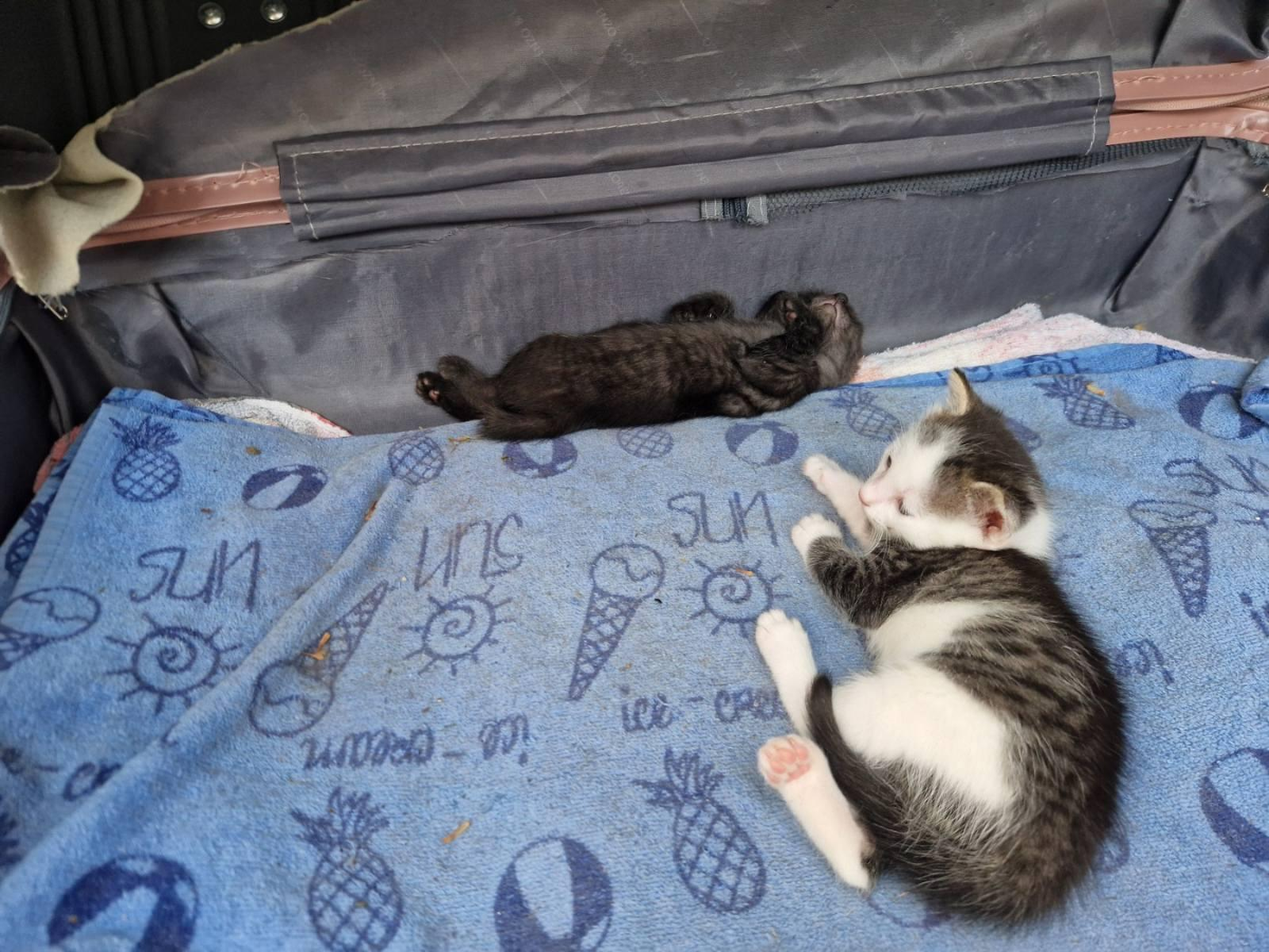macka: (755, 360, 1132, 926), (414, 286, 865, 442)
